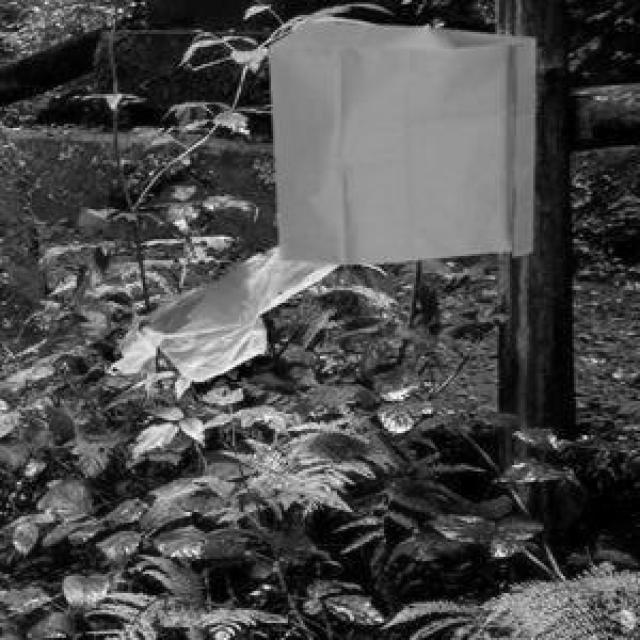paper: (265, 17, 531, 260)
